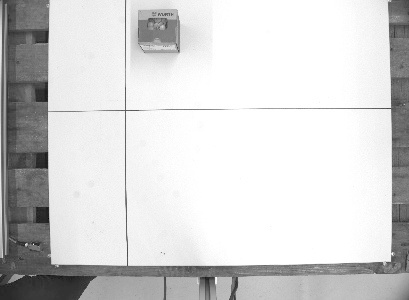b7: (134, 6, 184, 58)
